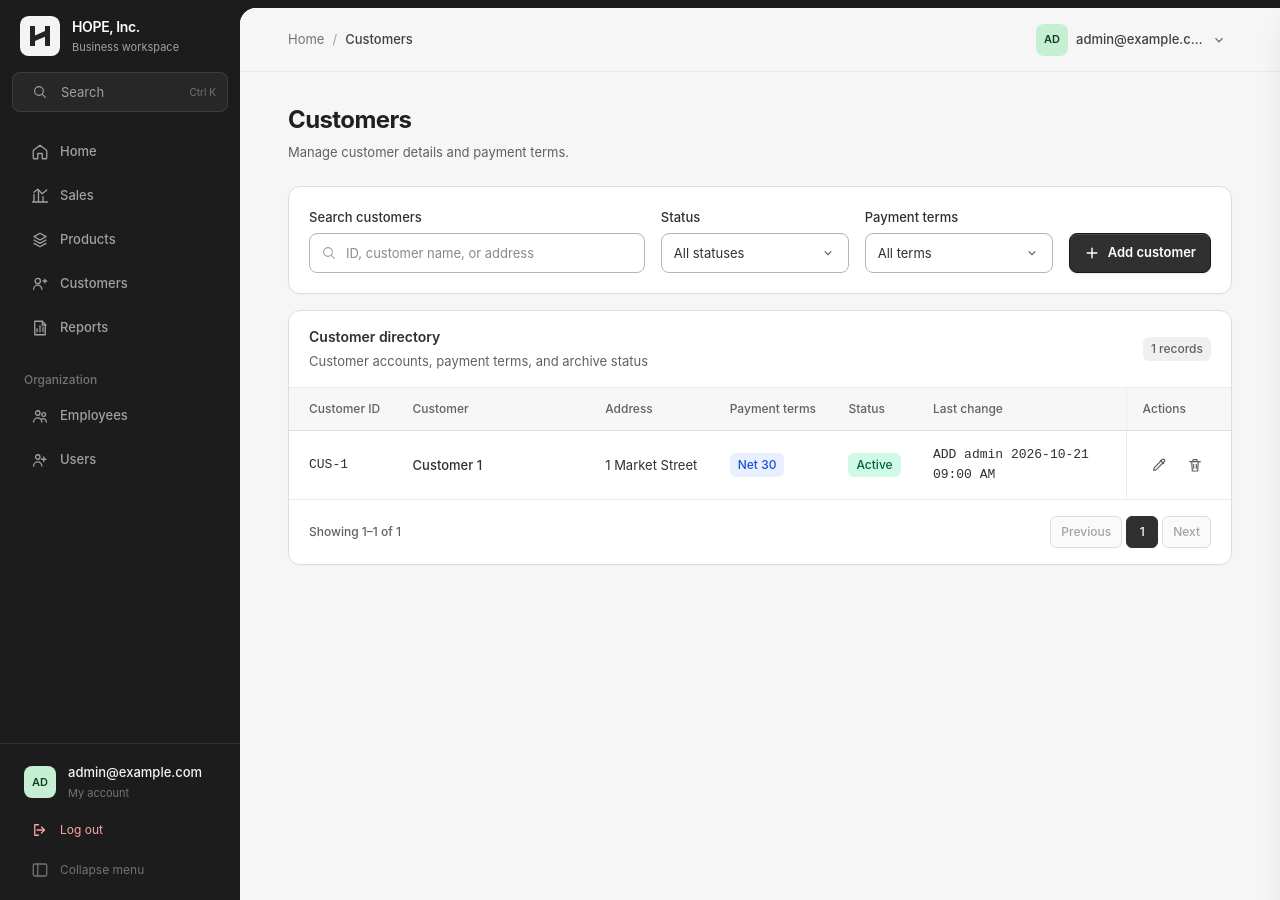
Test case: sends customer edits to the API and reloads the directory after saving
This screenshot has width=1280, height=900.
Expected: the text "Customer 1" is shown, top-left (396, 431), bottom-right (589, 499)
Click the button named "Edit Customer 1": (1159, 465) top-left (1143, 449), bottom-right (1175, 481)
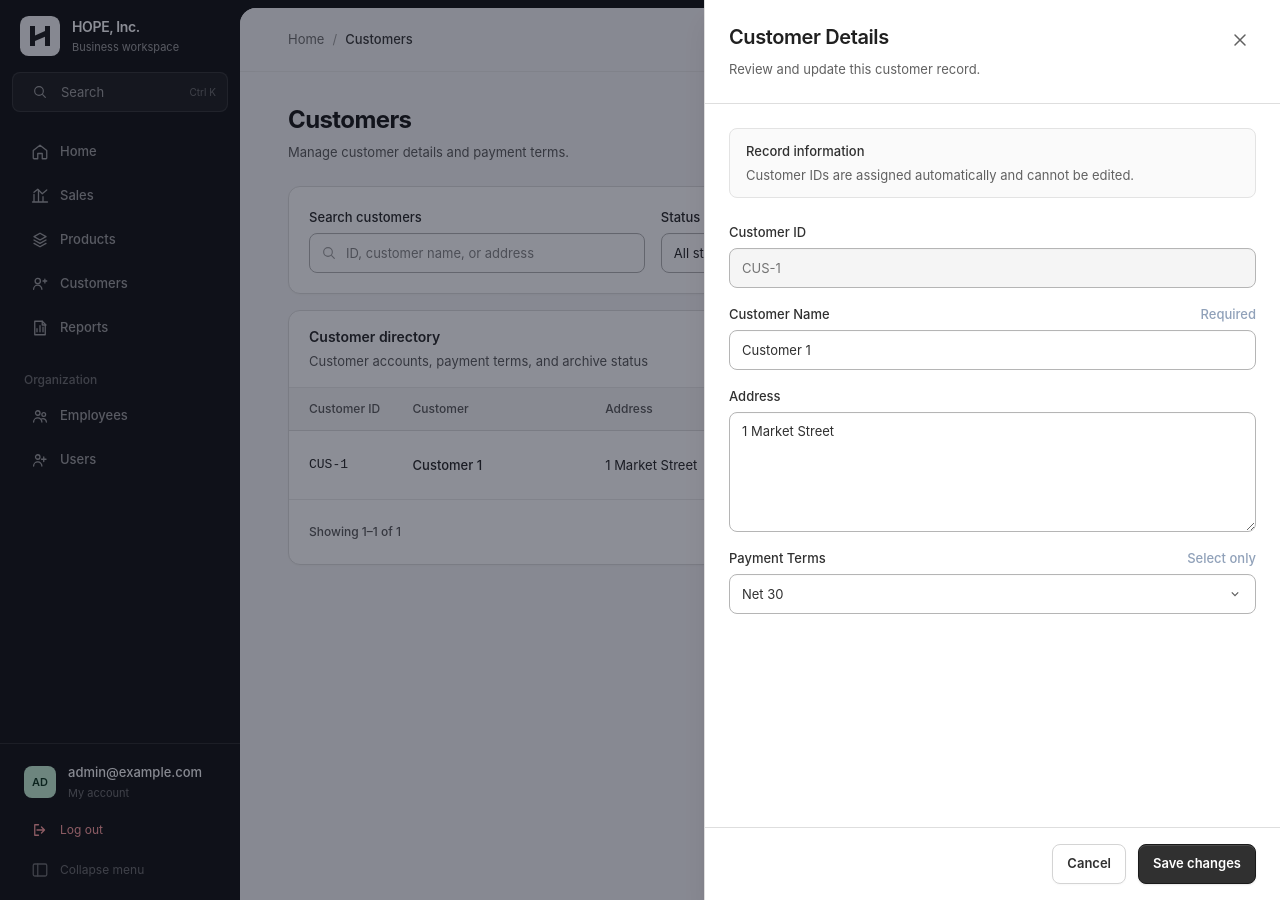
Replace the text in the field labelled "Customer Name Required" with "Updated account": (992, 350) top-left (729, 330), bottom-right (1256, 370)
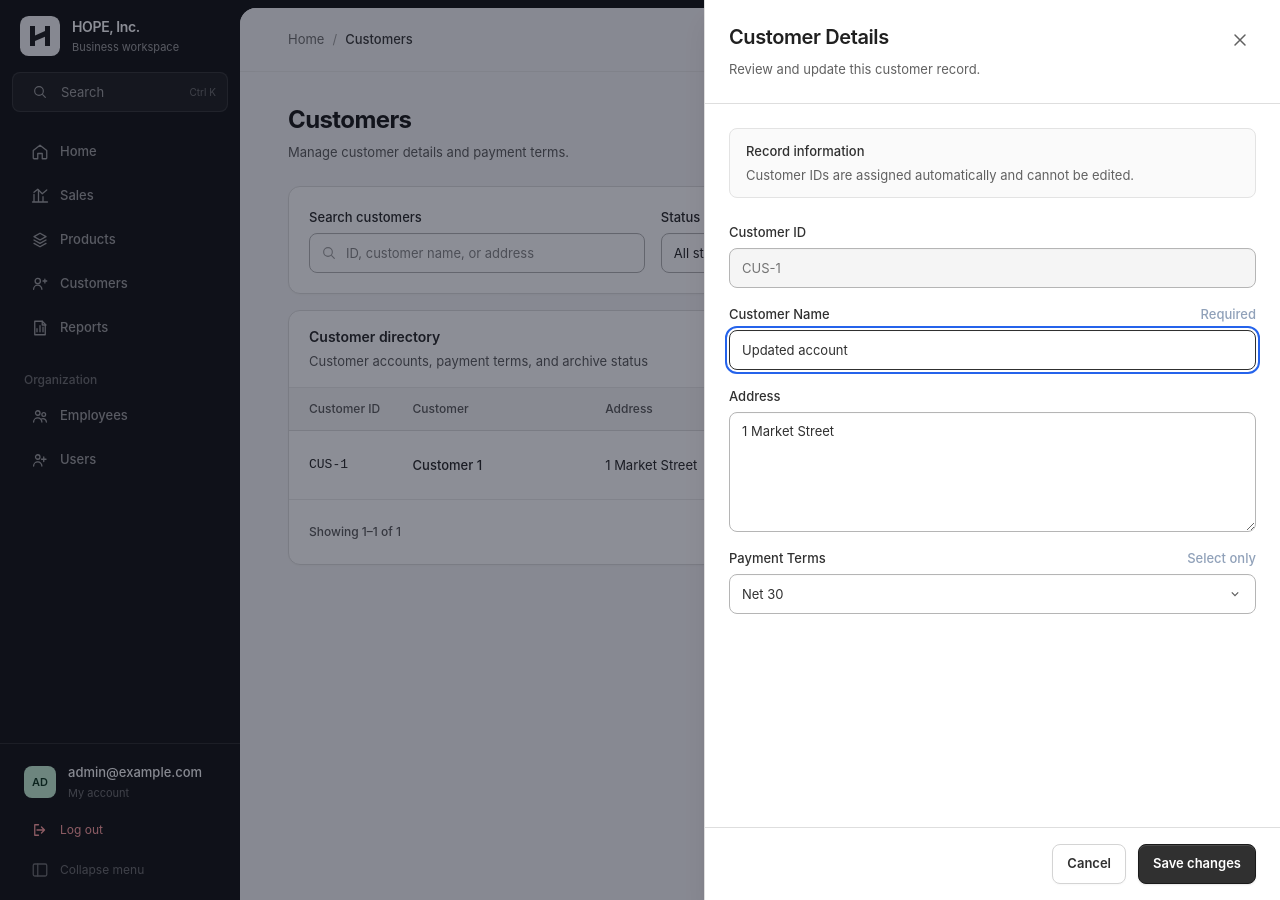
Select "Net 45" in the dropdown labelled "Payment Terms Select only": (992, 594) top-left (729, 574), bottom-right (1256, 614)
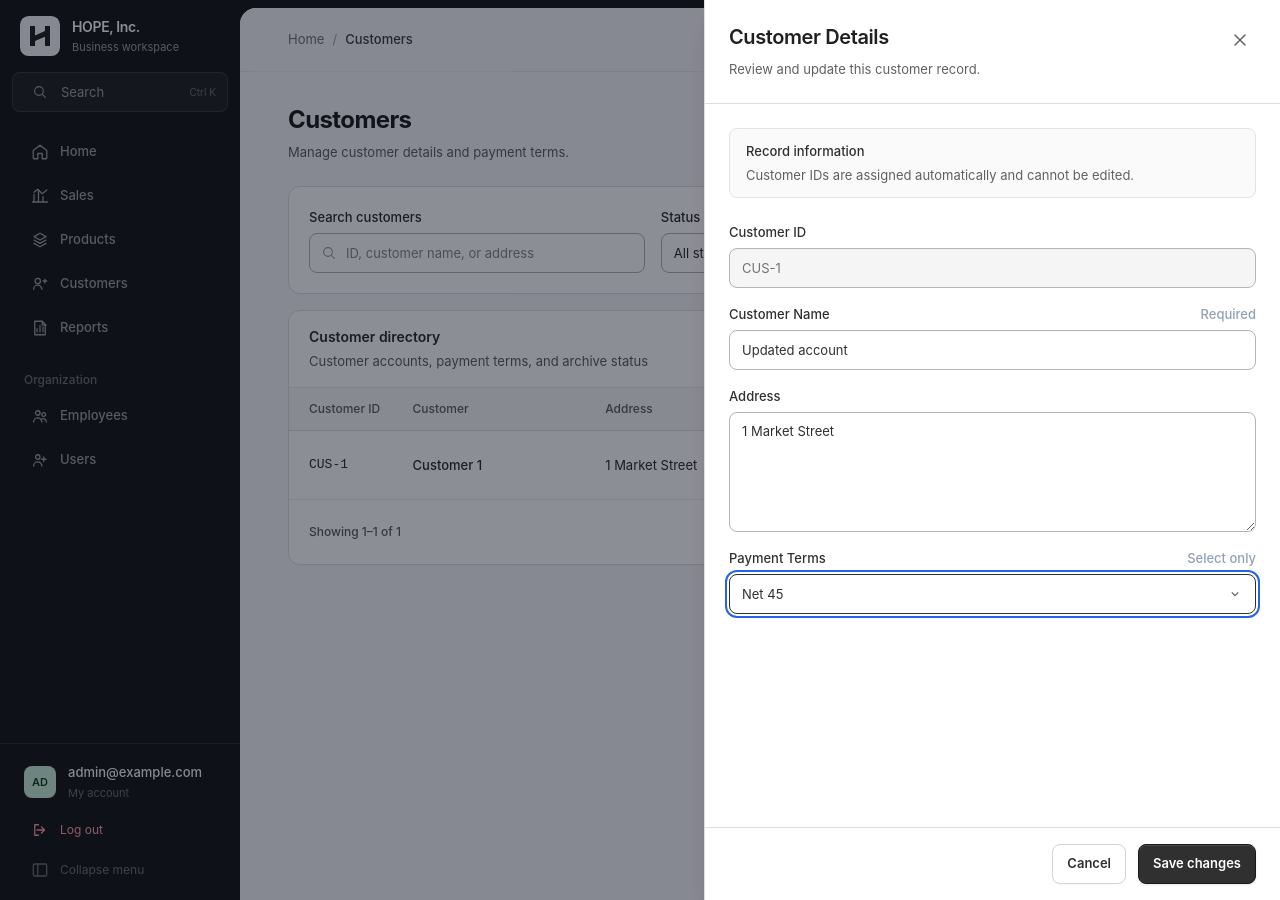
Click the button "Save changes": (1197, 864) top-left (1138, 844), bottom-right (1256, 884)
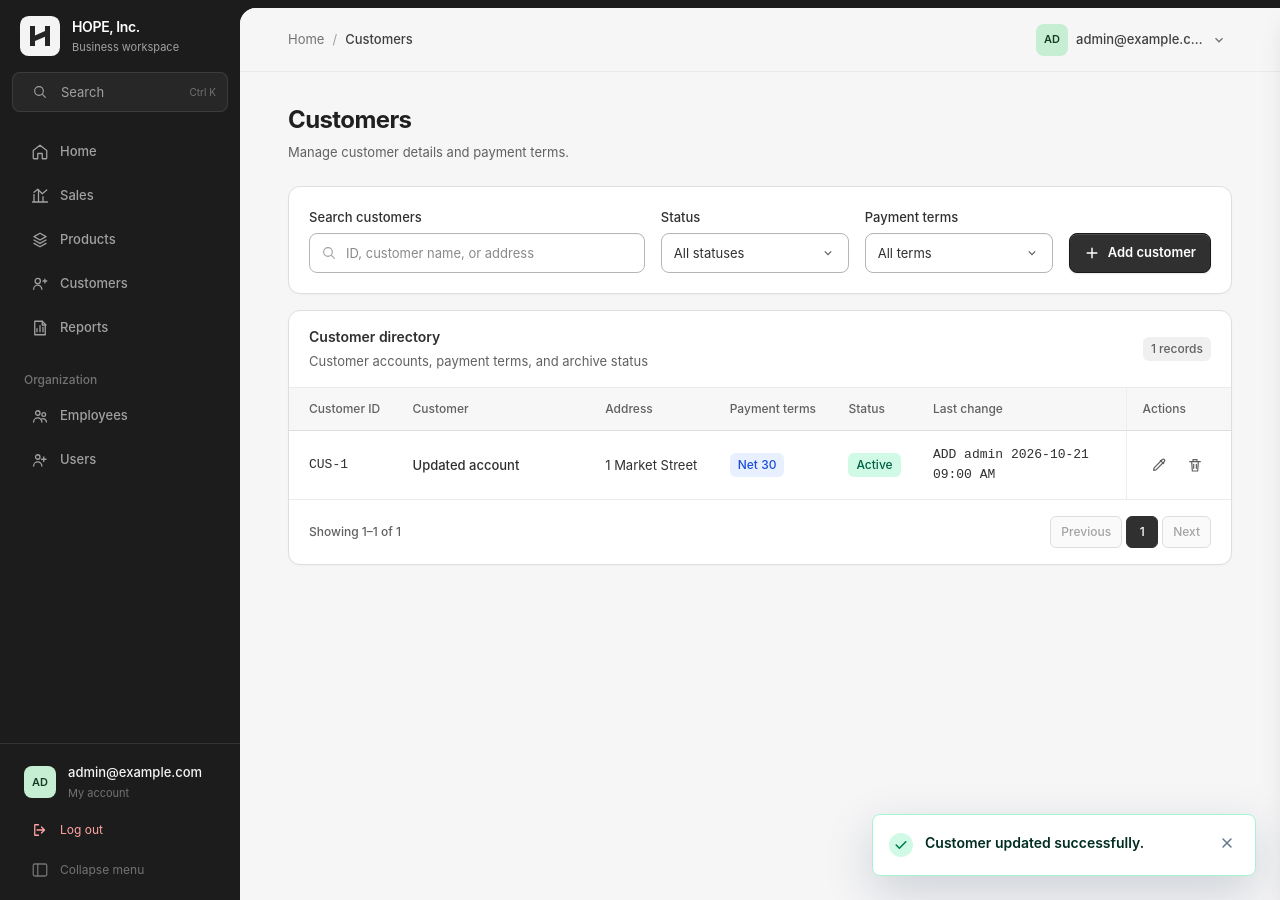
Result: the text "Updated account" is shown at top-left (396, 431), bottom-right (589, 499)
Result: the message shows "Customer updated successfully" at top-left (925, 834), bottom-right (1144, 851)
Click the button named "Dismiss notification": (1227, 843) top-left (1211, 827), bottom-right (1243, 859)
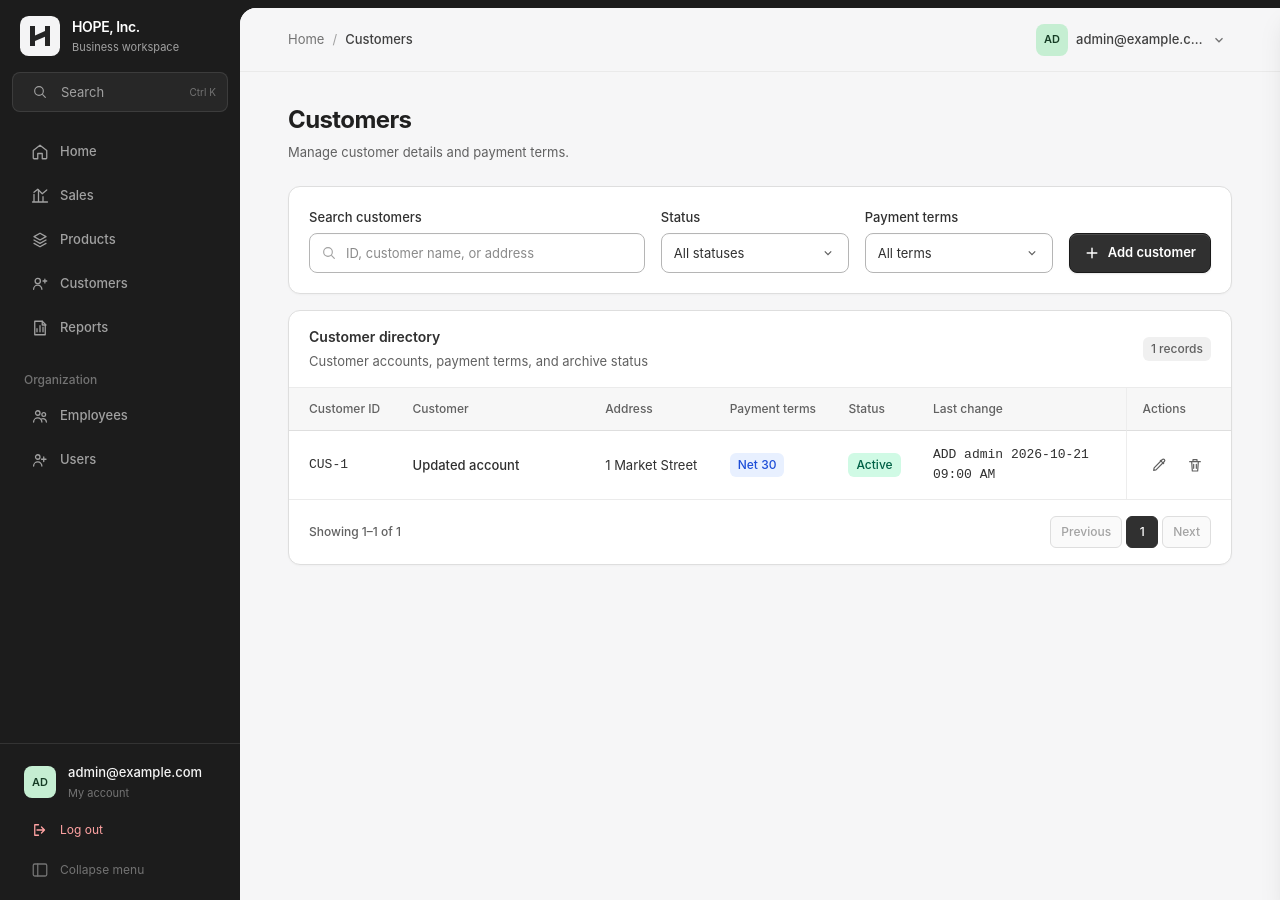
Result: the message "Customer updated successfully." is gone
